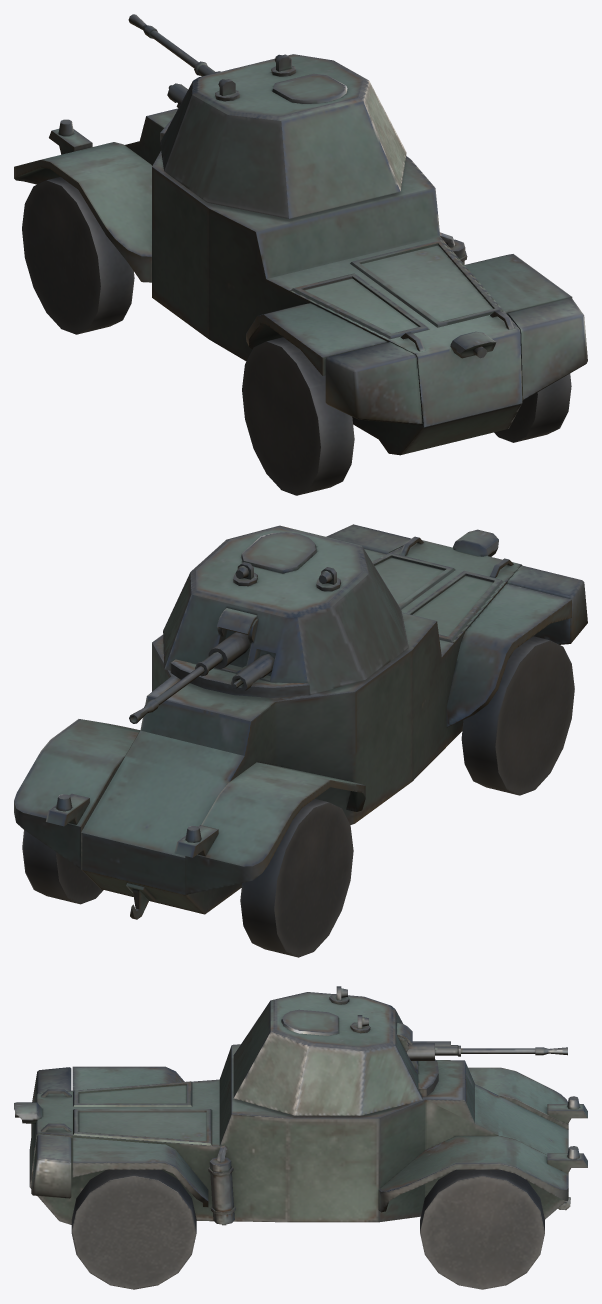
Rendered from AMD 178.fbx.
3 renders of one model, top to bottom at view 1: azimuth 30°, elevation 25°; view 2: azimuth 150°, elevation 25°; view 3: azimuth 270°, elevation 25°, orthographic. The views are drawn at different scales.
Parts seen in each view (by area): view 1: AMD 178 Hull, AMD 178 Turret; view 2: AMD 178 Hull, AMD 178 Turret; view 3: AMD 178 Hull, AMD 178 Turret.
Boxes of the visible parts, <box> form: AMD 178 Hull: <box>14,103,587,495</box>; AMD 178 Turret: <box>128,14,406,218</box>; AMD 178 Hull: <box>14,524,587,957</box>; AMD 178 Turret: <box>129,525,408,723</box>; AMD 178 Hull: <box>14,1044,587,1289</box>; AMD 178 Turret: <box>233,986,567,1115</box>.
Bounding box in the file's own units: 2.01 × 2.26 × 5.01.
